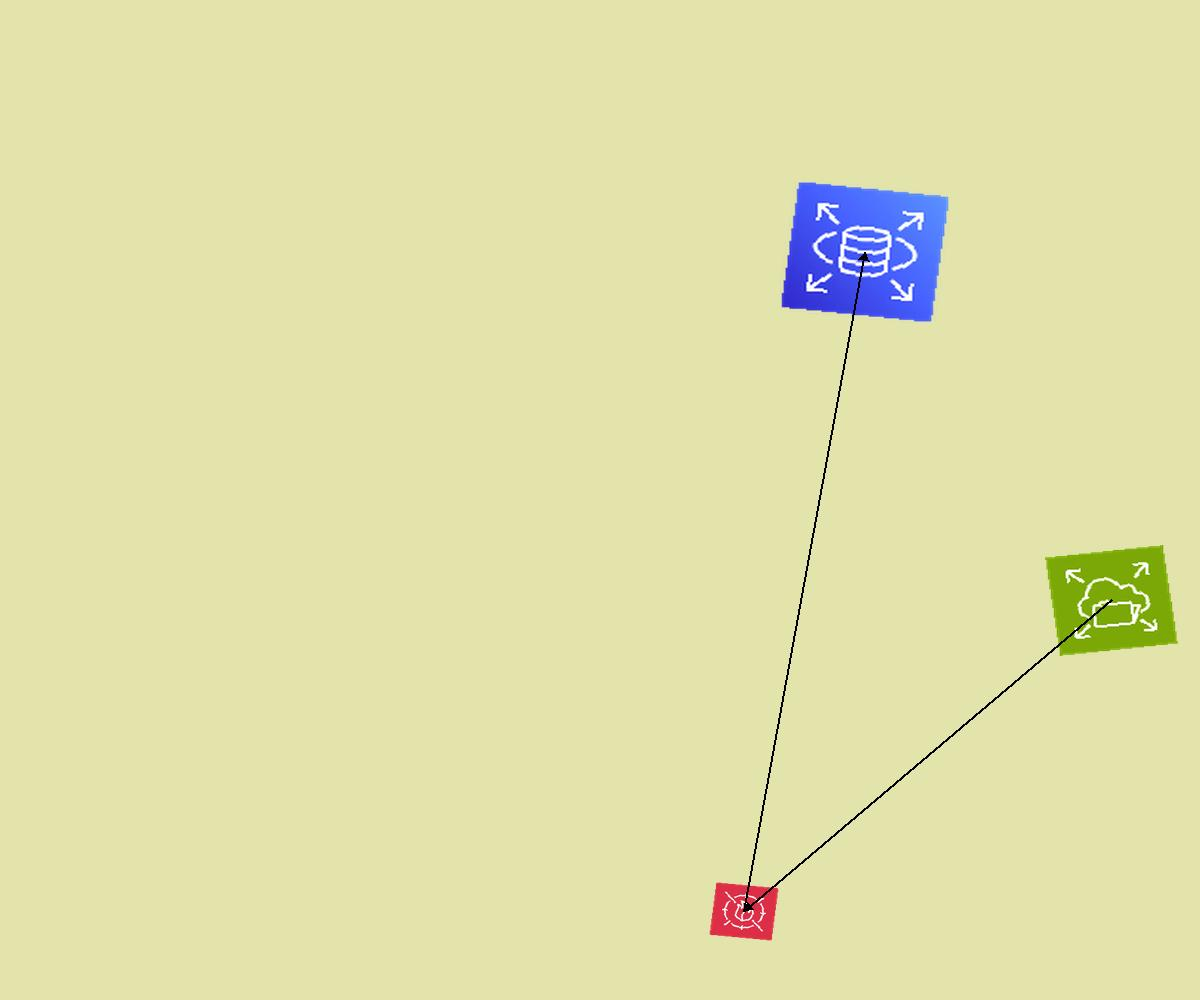AWS-EFS: (1045, 545, 1178, 656)
AWS-RDS: (780, 181, 950, 323)
AWS-WAF: (709, 882, 779, 941)
